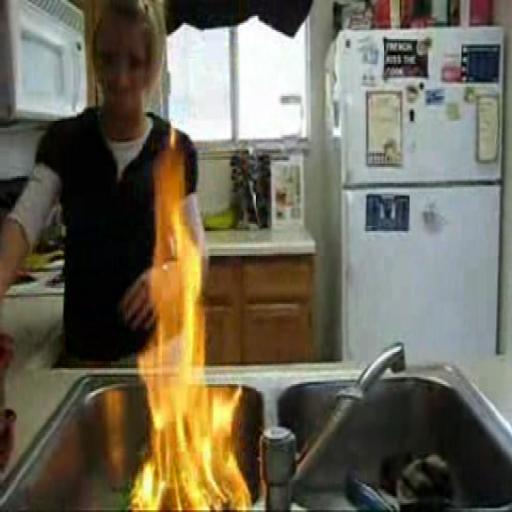fire: (144, 141, 246, 507)
